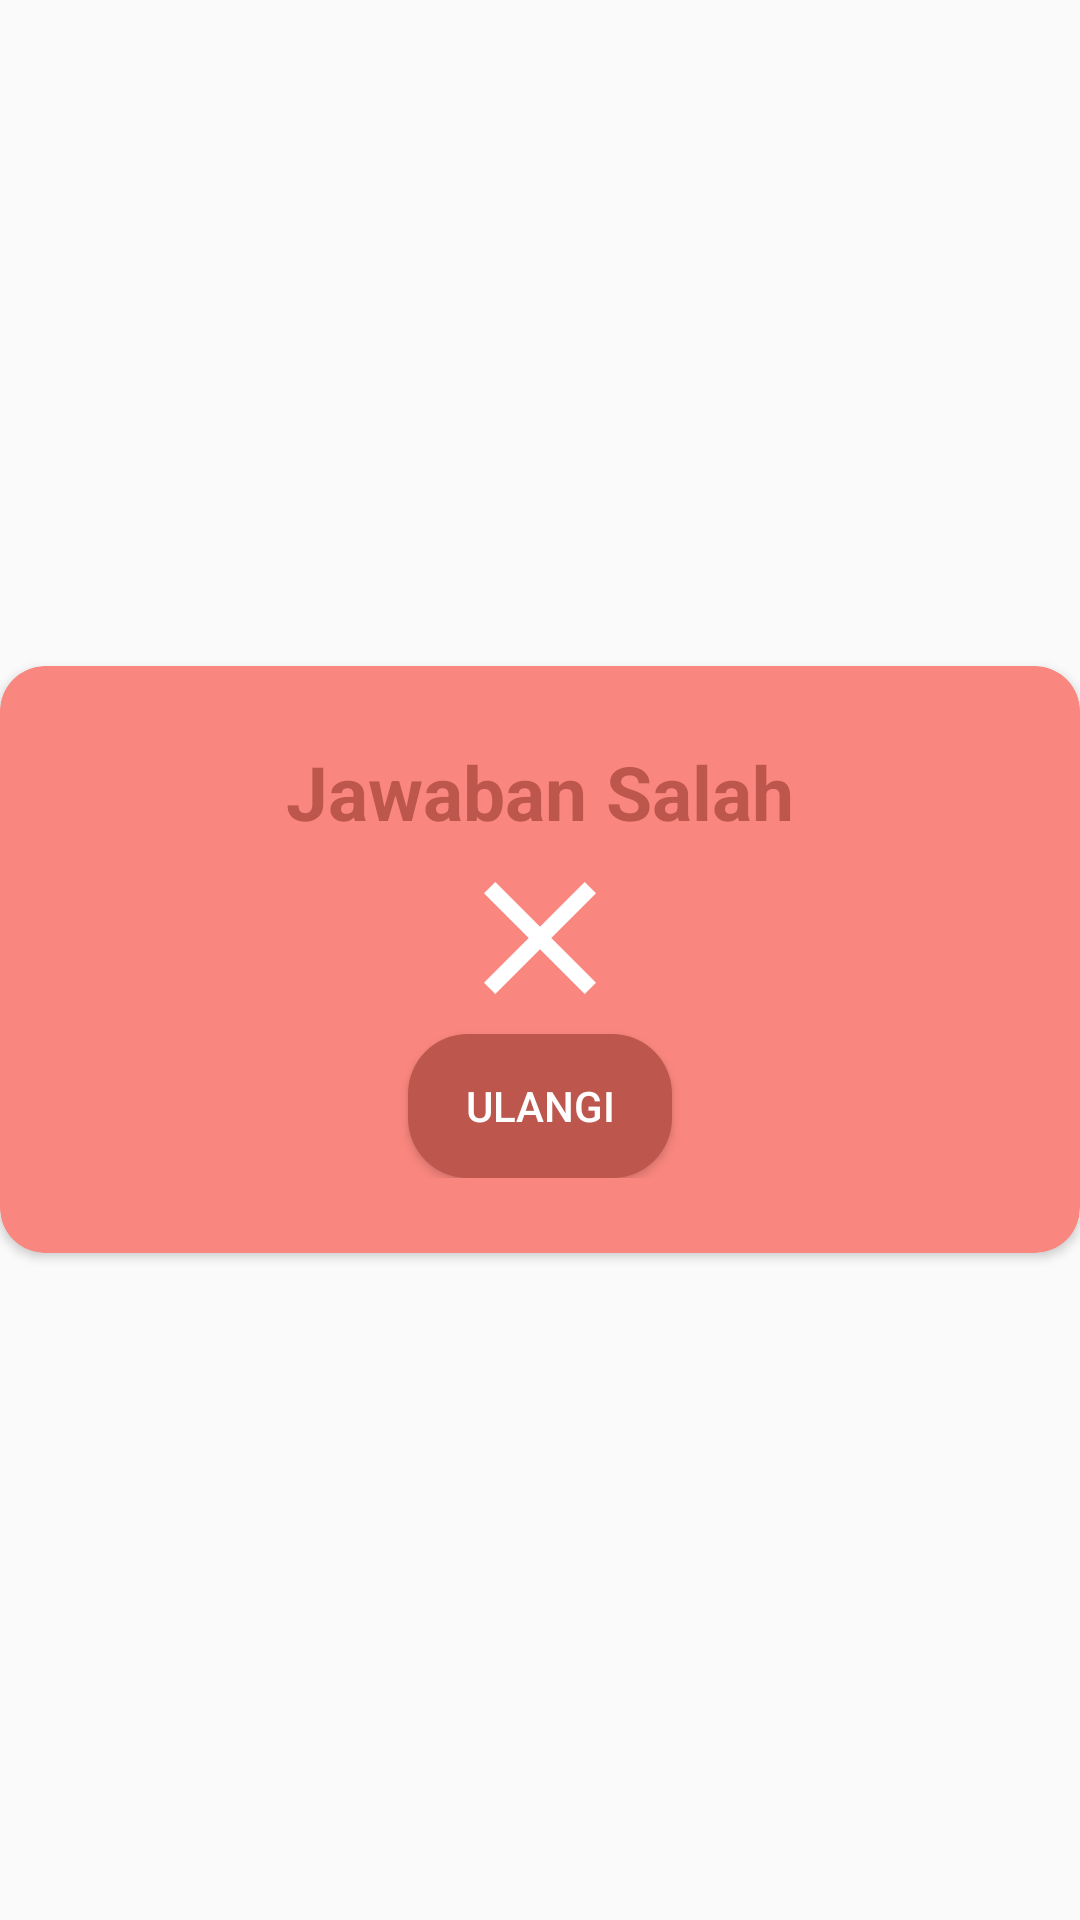

Where to tap for icons on this 1080w x 1920h app screen, as (x,y):
close: (540,938)
